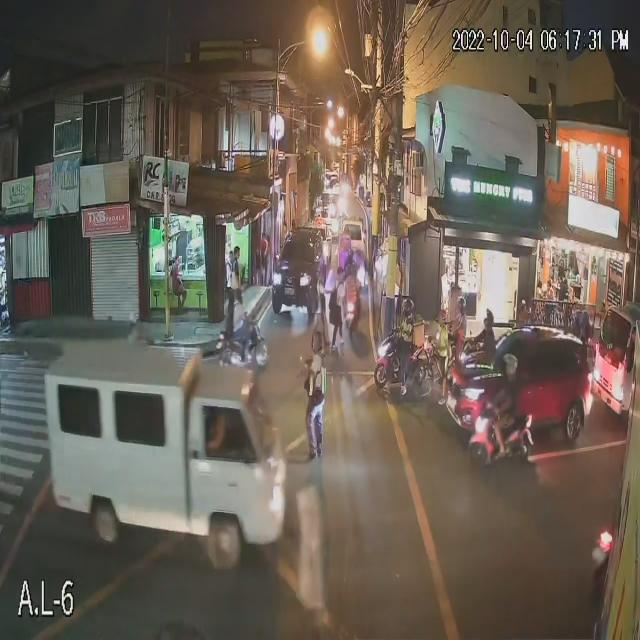helmet: (397, 301, 418, 318), (502, 353, 516, 375)
motorcycle: (464, 399, 536, 467), (215, 317, 270, 369), (373, 327, 413, 397), (344, 281, 363, 330)
rider: (499, 380, 519, 438), (400, 322, 413, 369), (231, 305, 245, 344)
